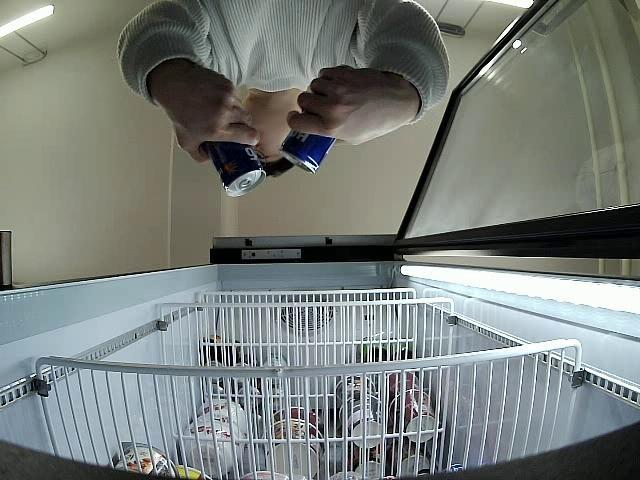16_hot6: (202, 139, 265, 196), (278, 130, 338, 176)
